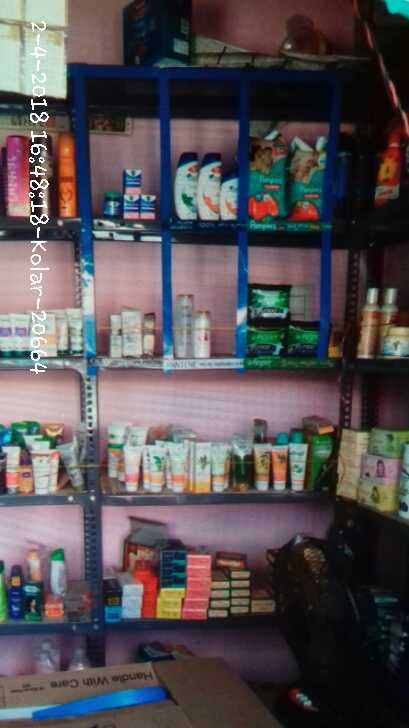vicks: (126, 166, 156, 215), (105, 190, 124, 212)
